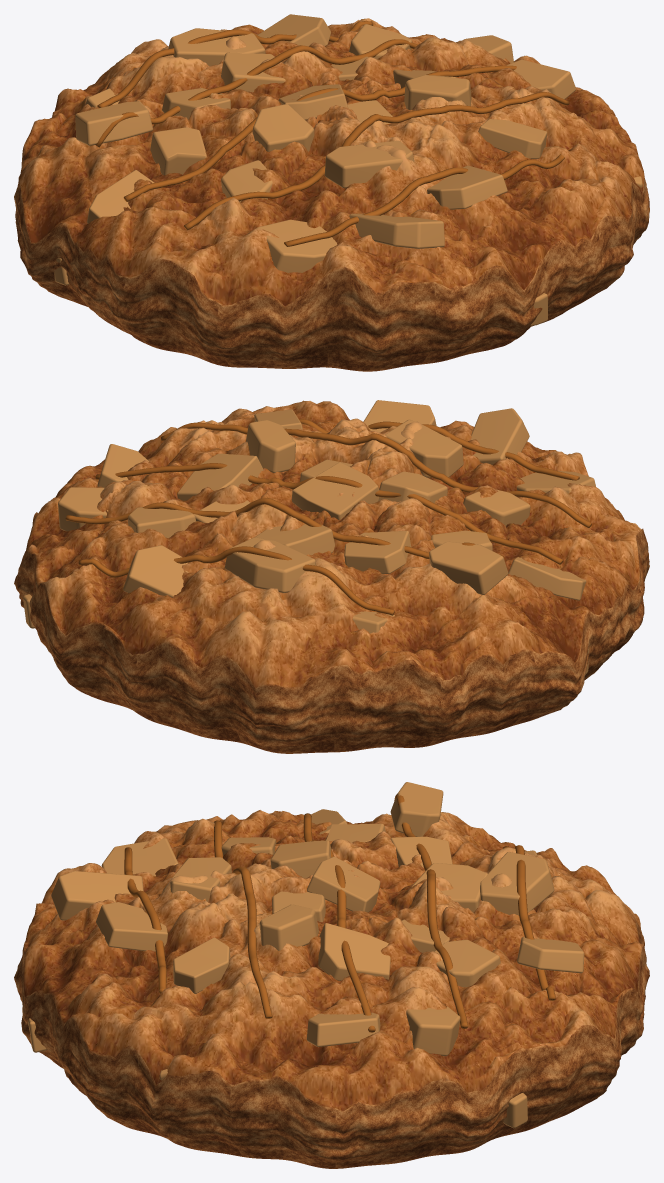
The model's file is tem_biscoff.glb.
3 views of the same model, one above another, from view 1: azimuth 30°, elevation 25°; view 2: azimuth 150°, elevation 25°; view 3: azimuth 270°, elevation 25° (orthographic). The views are drawn at different scales.
Visible parts, largest first — view 1: Baked porous crumb, White chocolate, Cream cheese drizzle; view 2: Baked porous crumb, White chocolate, Cream cheese drizzle; view 3: Baked porous crumb, White chocolate, Cream cheese drizzle.
Part boxes in pixels (box(x1,y1,x2,y2)): Baked porous crumb: box(14, 18, 649, 371); White chocolate: box(54, 14, 642, 326); Cream cheese drizzle: box(95, 21, 569, 246); Baked porous crumb: box(14, 400, 649, 753); White chocolate: box(23, 400, 595, 674); Cream cheese drizzle: box(65, 419, 591, 615); Baked porous crumb: box(14, 810, 649, 1168); White chocolate: box(28, 782, 584, 1128); Cream cheese drizzle: box(124, 794, 555, 1032).
Bounding box in the file's own units: 0.093 × 0.028 × 0.0903.
4 materials, 2 textured.
